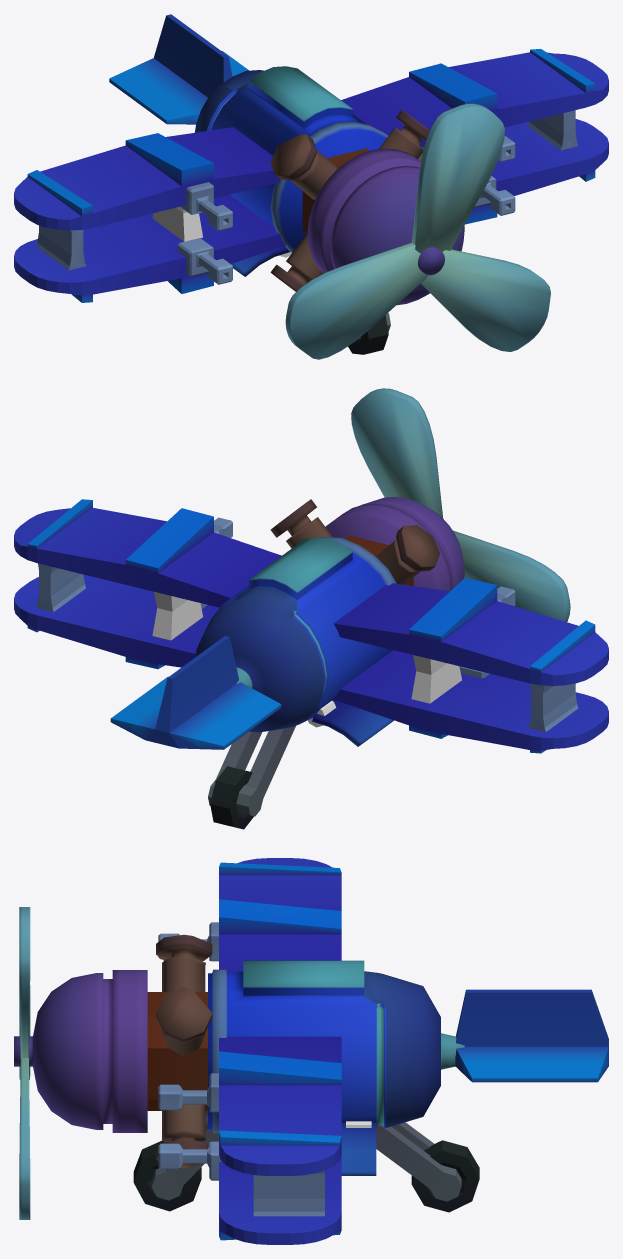
The model's file is самолет 1.fbx.
3 renders of one model, top to bottom at view 1: azimuth 30°, elevation 25°; view 2: azimuth 150°, elevation 25°; view 3: azimuth 270°, elevation 25°, orthographic. The views are drawn at different scales.
Visible parts, largest first — view 1: Cube.001, Cube.005, Cylinder.002, Cylinder, Cube.004, Cylinder.001, Cube.006, Cube.002, Cube.003, Cylinder.011, Cube, Cylinder.004; view 2: Cube.001, Cylinder.002, Cube.005, Cube.004, Cylinder, Cylinder.006, Cylinder.001, Cube.002, Cube.003, Cylinder.004, Cube.006; view 3: Cube.001, Cylinder.002, Cylinder, Cube.004, Cylinder.001, Cylinder.006, Cube, Cube.005, Cube.006, Cylinder.011, Cube.002, Cylinder.003.
Part boxes in pixels (box(x1,y1,x2,y2)): Cube.001: box(14, 49, 608, 302); Cube.005: box(285, 103, 550, 359); Cylinder.002: box(195, 66, 388, 252); Cylinder: box(307, 148, 464, 305); Cube.004: box(109, 14, 248, 124); Cylinder.001: box(270, 110, 429, 291); Cube.006: box(177, 136, 515, 284); Cube.002: box(36, 110, 578, 270); Cube.003: box(152, 147, 424, 241); Cylinder.011: box(348, 313, 390, 354); Cube: box(302, 148, 369, 233); Cylinder.004: box(231, 245, 289, 276); Cube.001: box(14, 499, 608, 753); Cylinder.002: box(195, 536, 396, 732); Cube.005: box(351, 388, 570, 621); Cube.004: box(110, 636, 281, 749); Cylinder: box(325, 497, 464, 591); Cylinder.006: box(208, 726, 295, 829); Cylinder.001: box(270, 499, 440, 584); Cube.002: box(36, 563, 578, 731); Cube.003: box(152, 592, 461, 703); Cylinder.004: box(312, 700, 393, 746); Cube.006: box(200, 517, 515, 678); Cube.001: box(219, 858, 341, 1244); Cylinder.002: box(208, 960, 464, 1133); Cylinder: box(14, 970, 147, 1132); Cube.004: box(455, 989, 608, 1082); Cylinder.001: box(156, 934, 212, 1168); Cylinder.006: box(376, 1122, 479, 1212); Cube: box(147, 992, 207, 1110); Cube.005: box(19, 907, 30, 1219); Cube.006: box(158, 922, 221, 1180); Cylinder.011: box(133, 1111, 218, 1211); Cube.002: box(253, 1170, 324, 1216); Cylinder.003: box(341, 1123, 376, 1175).
Size of the model in its own units: 924 by 439 by 758.
